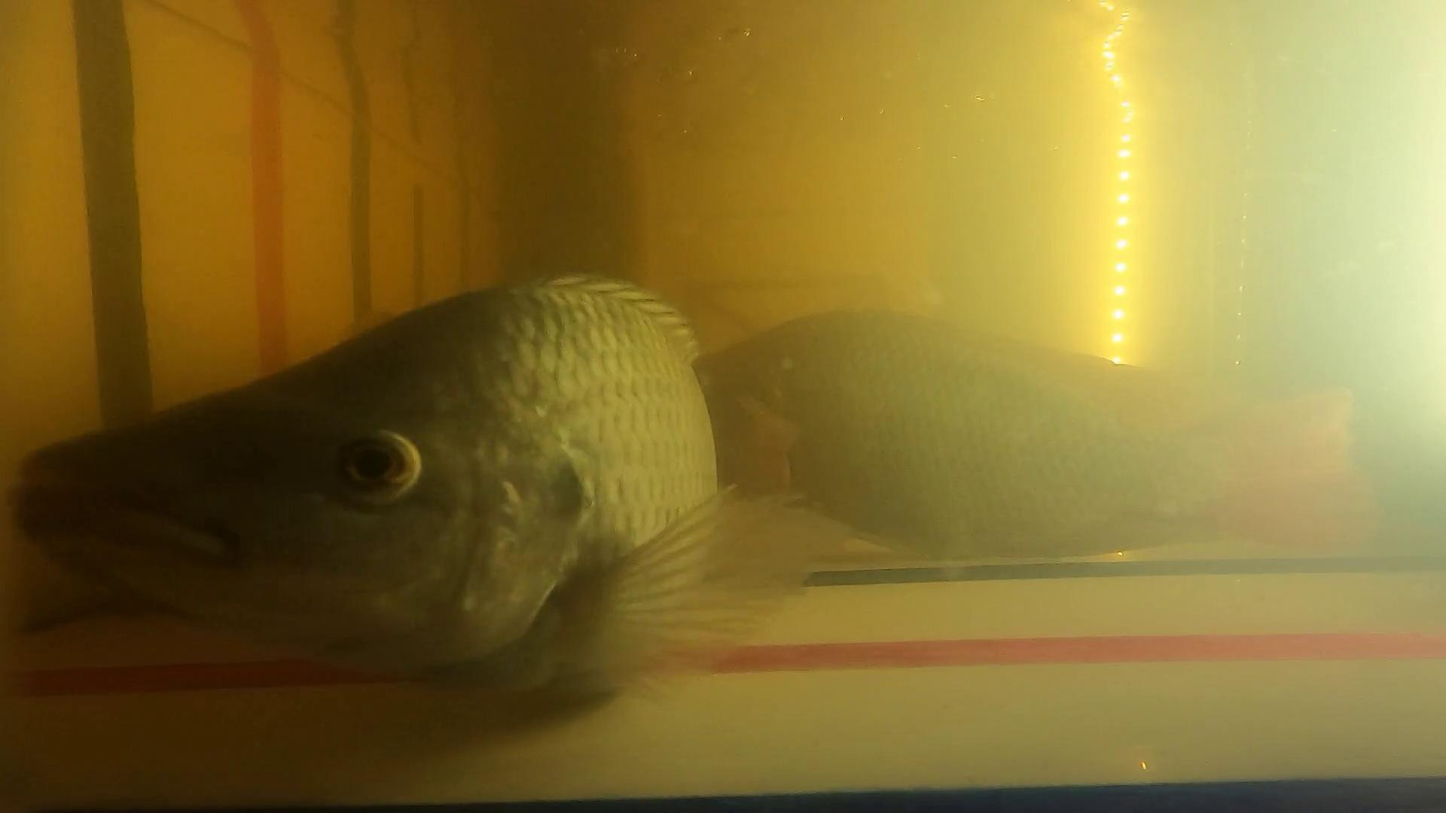Tilapia: (694, 312, 1359, 561)
